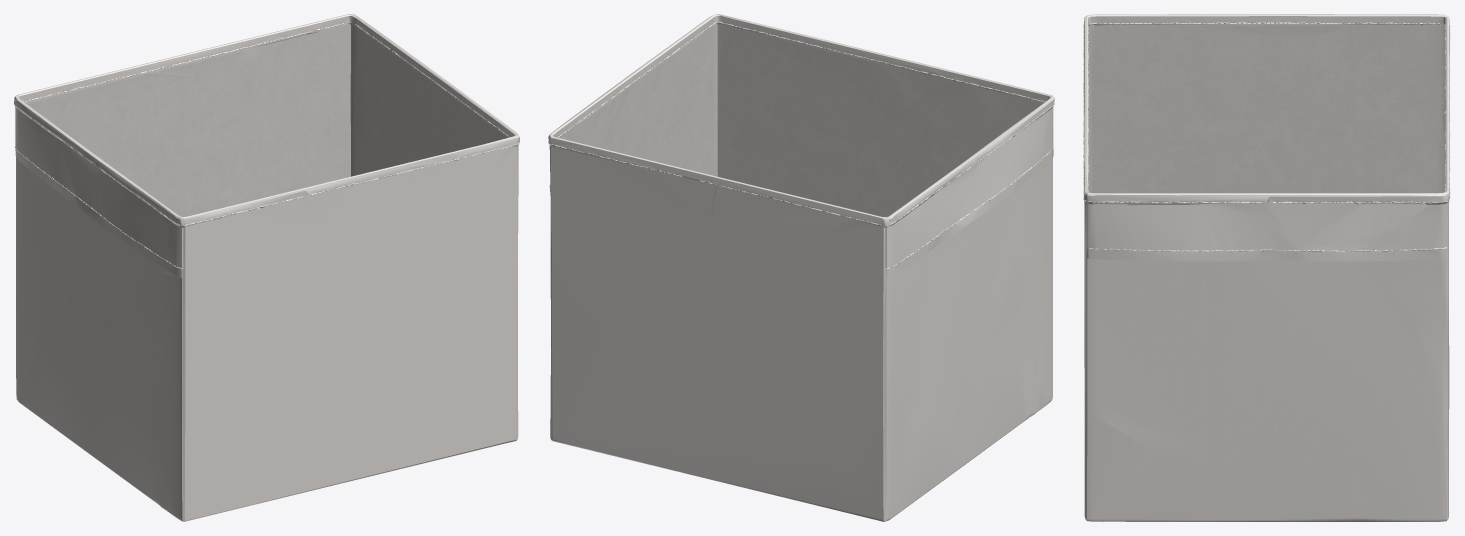
The model's file is 03 - DRÖNA Box - white 33x38x33 cm.glb.
3 renders of one model, left to right at view 1: azimuth 30°, elevation 25°; view 2: azimuth 150°, elevation 25°; view 3: azimuth 270°, elevation 25°, orthographic. The views are drawn at different scales.
Visible parts, largest first — view 1: ProcessedMeshNode; view 2: ProcessedMeshNode; view 3: ProcessedMeshNode.
Boxes of the visible parts, box(x1,y1,x2,y2) form: ProcessedMeshNode: box(14, 14, 519, 521); ProcessedMeshNode: box(548, 14, 1054, 521); ProcessedMeshNode: box(1083, 14, 1450, 521).
Size of the model in its own units: 0.3906 by 0.3287 by 0.3275.
Materials: 1 (1 with a texture image).
